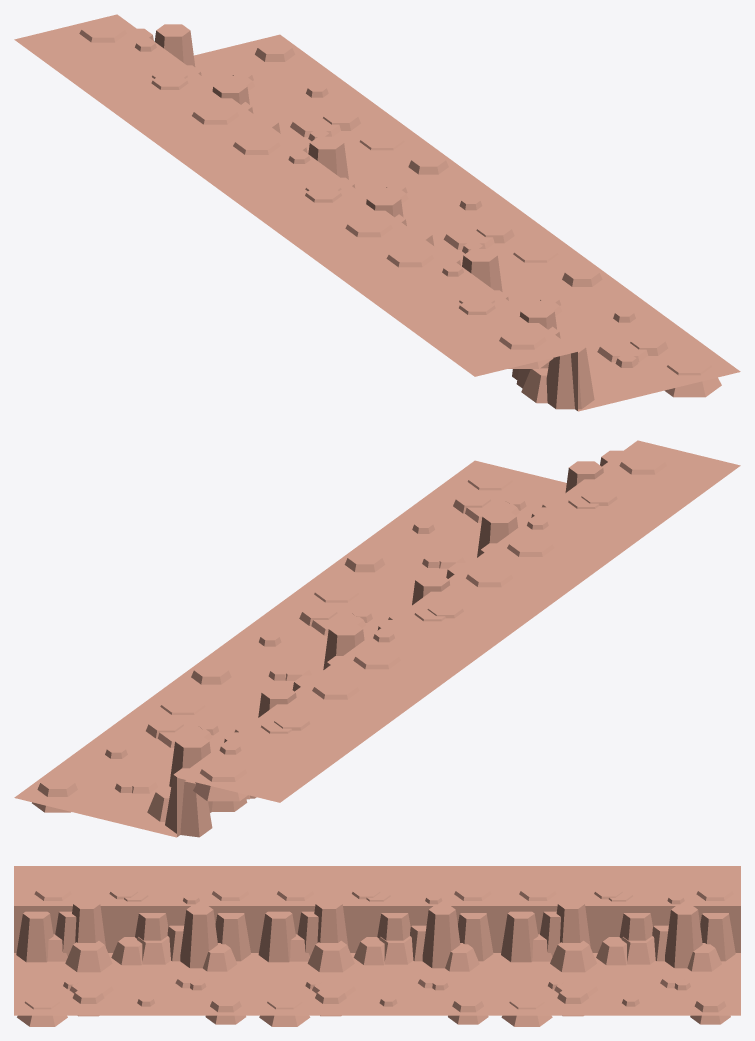
Rendered from background2.fbx.
3 renders of one model, top to bottom at view 1: azimuth 30°, elevation 25°; view 2: azimuth 150°, elevation 25°; view 3: azimuth 270°, elevation 25°, orthographic. The views are drawn at different scales.
Visible parts, largest first — view 1: Background; view 2: Background; view 3: Background.
Boxes of the visible parts, x1,y1,x2,y2 form: Background: (14,14,740,411); Background: (14,440,740,837); Background: (14,866,740,1026).
Size of the model in its own units: 1000 by 300 by 3000.
